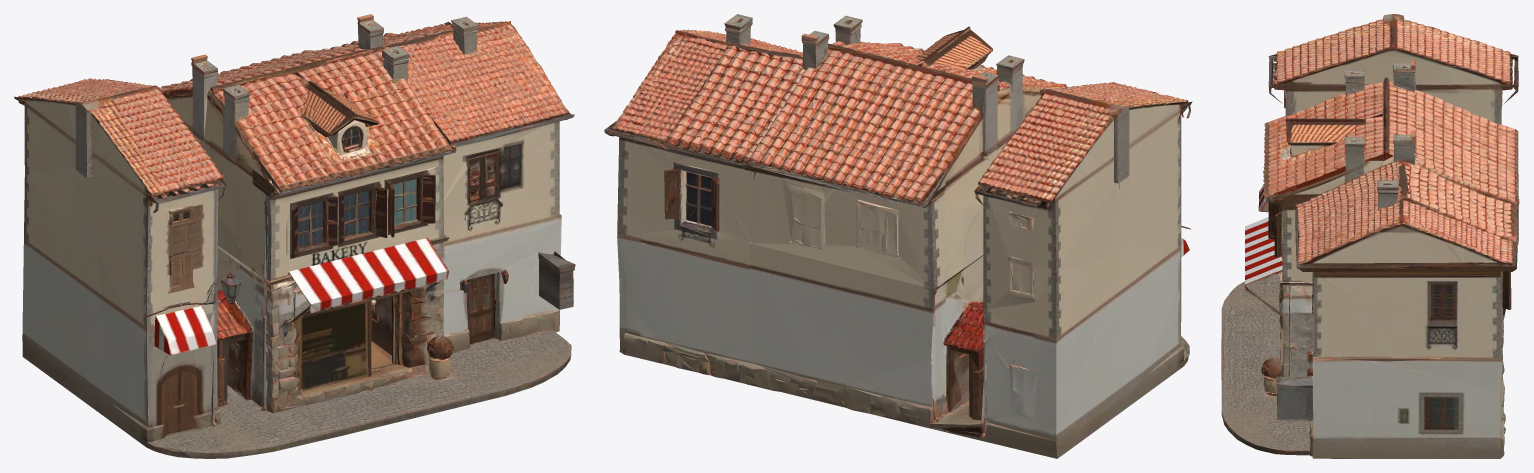
Rendered from boulangerie.glb.
The picture shows the model from 3 angles, left to right: view 1: azimuth 30°, elevation 25°; view 2: azimuth 150°, elevation 25°; view 3: azimuth 270°, elevation 25°; orthographic projection. The views are drawn at different scales.
Bounding box in the file's own units: 1.9 × 1.27 × 1.28.
1 material, 1 textured.
